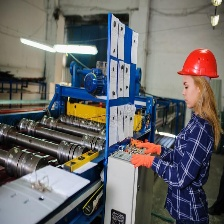helmet: (175, 47, 220, 89)
no-vest: (169, 111, 215, 221)
person: (162, 46, 224, 224)
